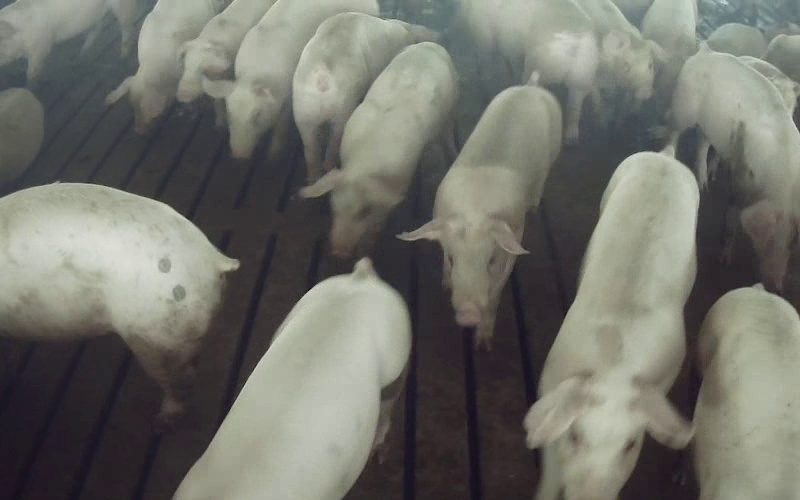pig: (524, 146, 698, 499), (173, 258, 410, 499), (400, 73, 560, 347), (301, 42, 457, 254), (671, 47, 799, 290), (293, 12, 438, 181), (694, 285, 799, 499), (462, 0, 597, 142), (0, 0, 139, 82), (578, 0, 664, 100)
